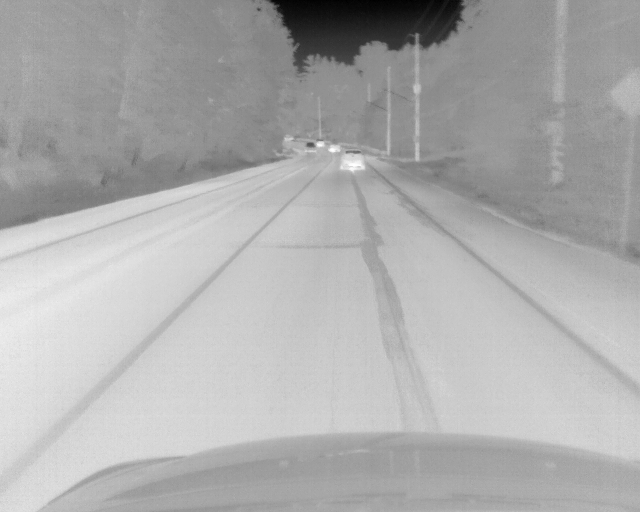car: (339, 149, 366, 173), (328, 143, 341, 153), (304, 141, 315, 152), (315, 139, 326, 147)
